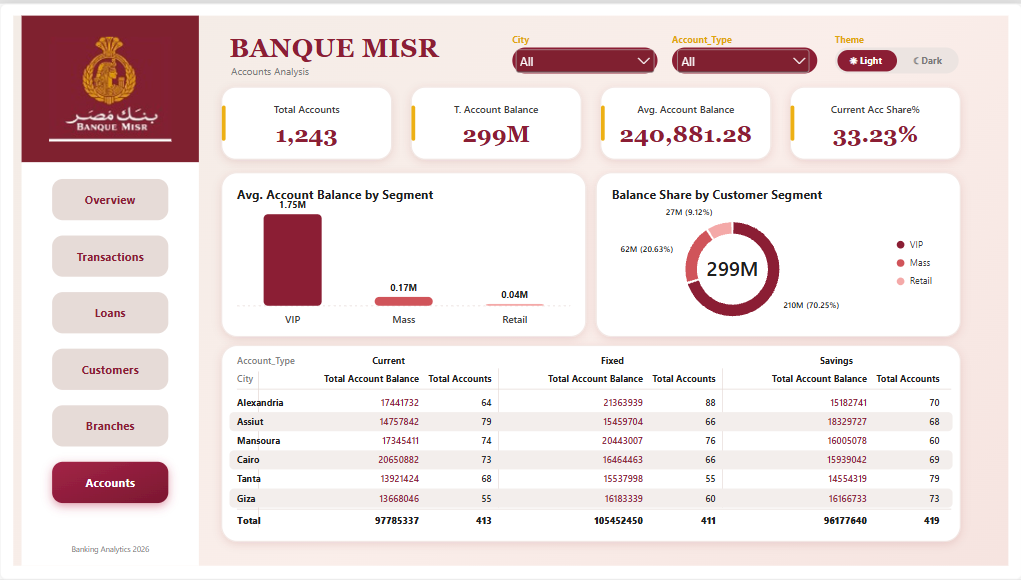

This screenshot's page, from the dashboard's own definition file:
{"tool":"powerbi","page":{"name":"Accounts HTML","canvas":[1280,720],"ordinal":6},"visuals":[{"type":"htmlContent443BE3AD55E043BF878BED274D3A6855","fields":{"content":["DAX.HTML Accounts"]},"box":[0,0,1279.6,720.4],"z":0},{"type":"slicer","fields":{"Values":["Branches Dim.City"]},"box":[640.7,51.9,183.3,35.2],"z":1000},{"type":"slicer","fields":{"Values":["Fact Accounts.Account_Type"]},"box":[842.6,51.9,175.9,35.2],"z":2000},{"type":"actionButton","box":[64.8,288.9,150,53.7],"z":3000},{"type":"actionButton","box":[64.8,214.8,150,53.7],"z":4000},{"type":"actionButton","box":[64.8,361.1,150,53.7],"z":5000},{"type":"actionButton","box":[64.8,427.8,150,53.7],"z":6000},{"type":"actionButton","box":[64.8,498.1,150,53.7],"z":7000},{"type":"actionButton","box":[25.9,14.8,229.4,178.4],"z":8000}]}

Visuals, with their boxes in screenshot pixels (x1, y1, x2, y2), scaled from the page's 1280x720 canvas onto the 1021x580 screenshot:
htmlContent443BE3AD55E043BF878BED274D3A6855 - DAX.HTML Accounts: [x1=0, y1=0, x2=1020, y2=579]
slicer - Branches Dim.City: [x1=511, y1=42, x2=657, y2=70]
slicer - Fact Accounts.Account_Type: [x1=672, y1=42, x2=812, y2=70]
actionButton: [x1=52, y1=233, x2=171, y2=276]
actionButton: [x1=52, y1=173, x2=171, y2=216]
actionButton: [x1=52, y1=291, x2=171, y2=334]
actionButton: [x1=52, y1=345, x2=171, y2=388]
actionButton: [x1=52, y1=401, x2=171, y2=445]
actionButton: [x1=21, y1=12, x2=204, y2=156]
